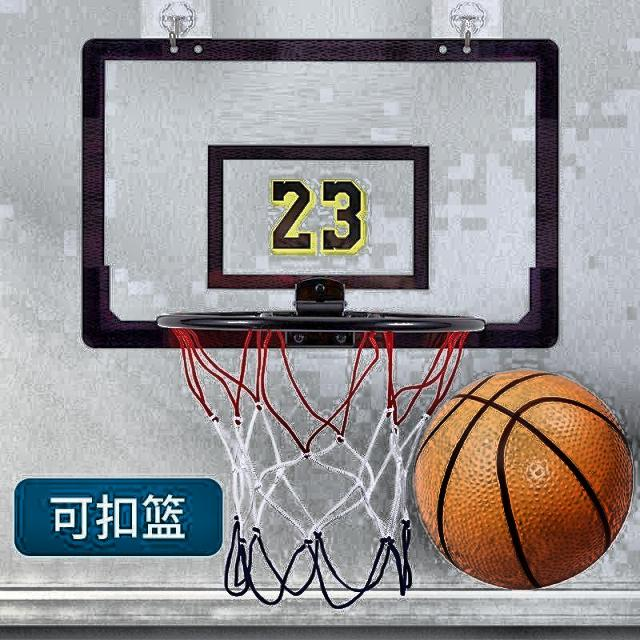board: (418, 370, 635, 591)
rim: (158, 312, 484, 603)
